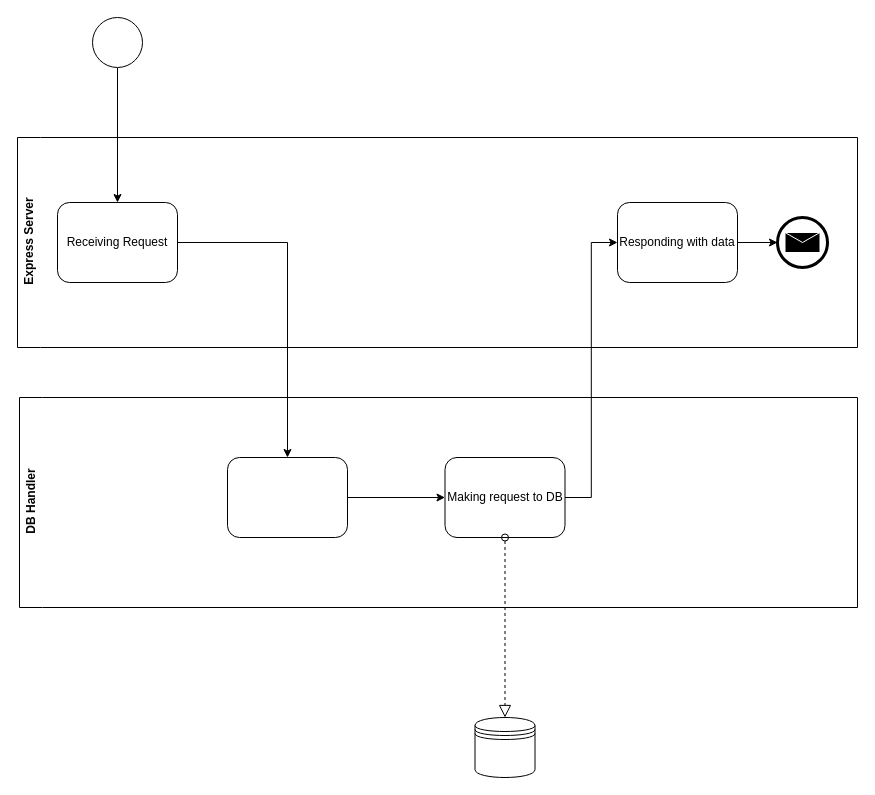
Some shapes in this 875 by 795 pixel diagram are drawn without their labels. Each missing label, with the centre of its shape:
"GET Request from UI" goes at (117,42).
"Preparing Query" goes at (287,497).
